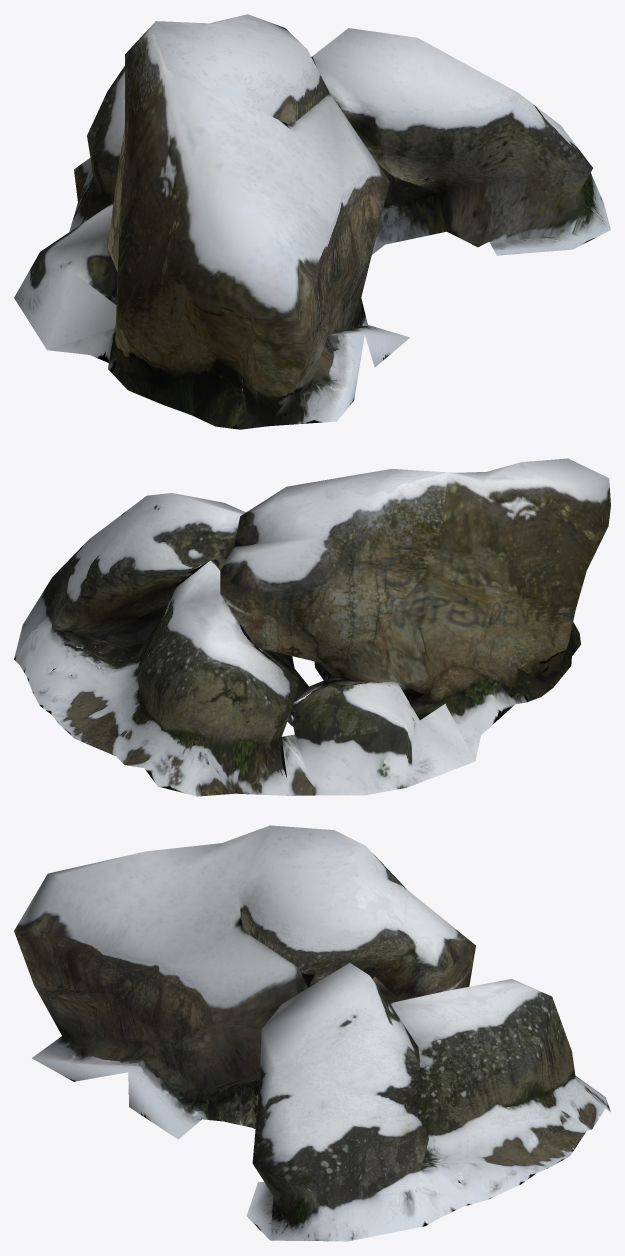
The model's file is snow rock.fbx.
3 views of the same model, one above another, from view 1: azimuth 30°, elevation 25°; view 2: azimuth 150°, elevation 25°; view 3: azimuth 270°, elevation 25° (orthographic). The views are drawn at different scales.
Visible parts, largest first — view 1: Object_4; view 2: Object_4; view 3: Object_4.
Part boxes in pixels (left/top/right/bottom): Object_4: left=14, top=14, right=610, bottom=429; Object_4: left=14, top=458, right=610, bottom=796; Object_4: left=14, top=825, right=610, bottom=1241.
Bounding box in the file's own units: 451 × 230 × 485.
